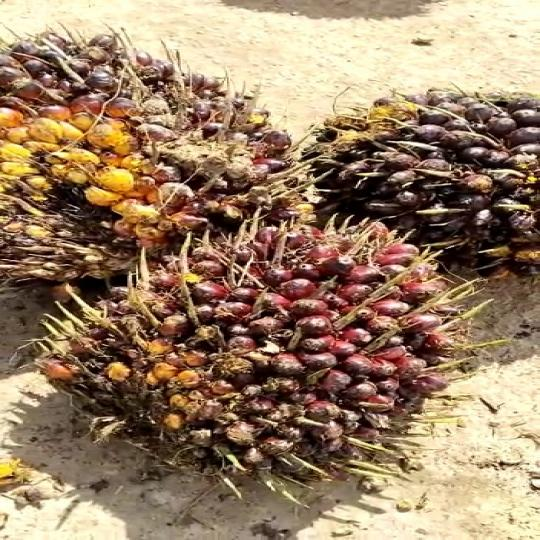kurang masak: (52, 214, 461, 488), (0, 30, 305, 306), (304, 85, 540, 297)
